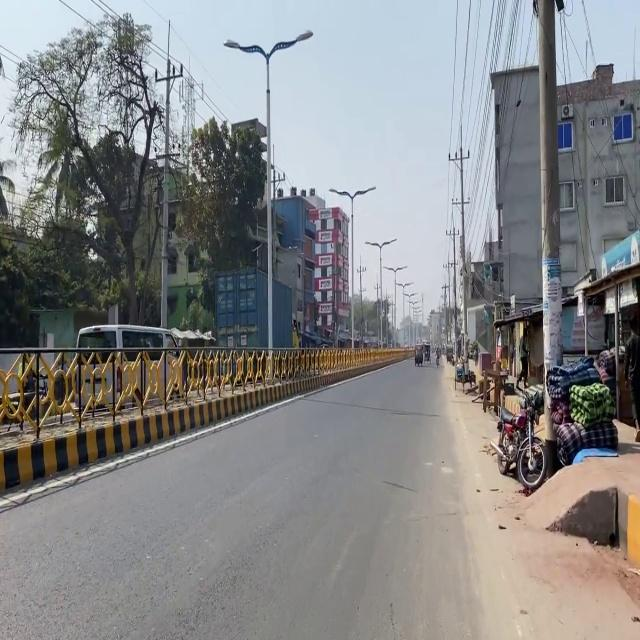Dog: (546, 351, 618, 466)
Fallen-tree: (490, 382, 547, 488), (454, 355, 476, 392)
Garbage: (482, 367, 508, 415)
Garbage-bin: (623, 315, 639, 442), (515, 334, 530, 388)
Light-pole: (533, 0, 564, 477)
Pole: (2, 338, 320, 472)
Pothole: (443, 352, 639, 638)
